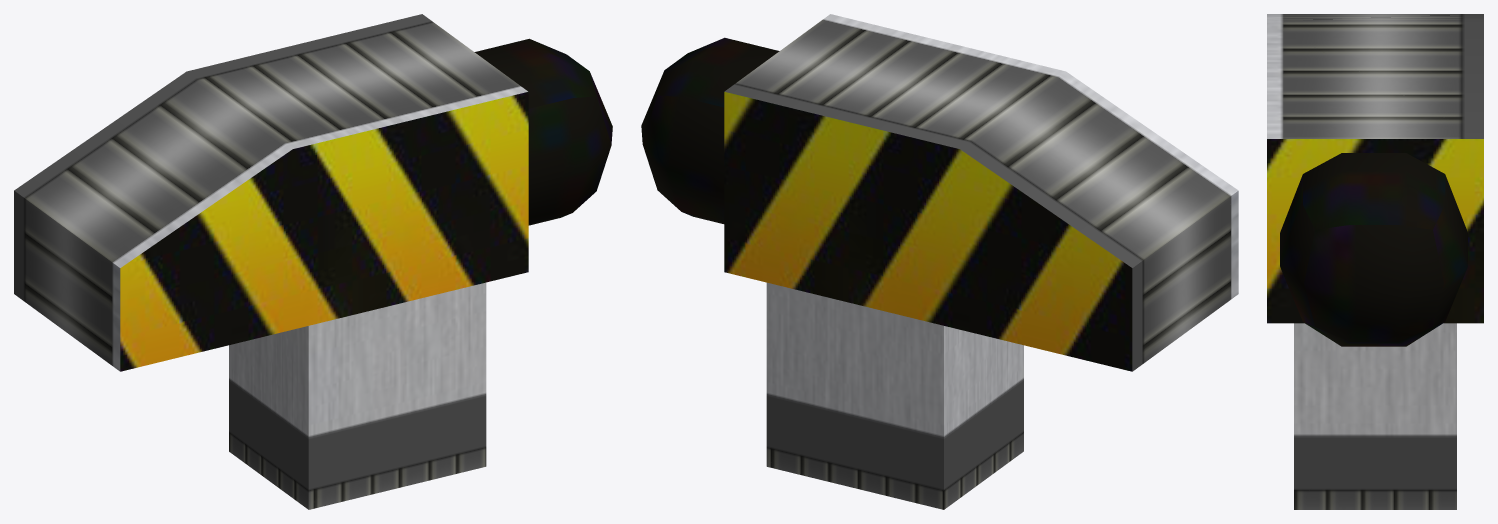
Rendered from HammerLvl1.FBX.
3 views of the same model, side by side, from view 1: azimuth 30°, elevation 25°; view 2: azimuth 150°, elevation 25°; view 3: azimuth 270°, elevation 25° (orthographic). The views are drawn at different scales.
Visible parts, largest first — view 1: Hammer_Lvl1; view 2: Hammer_Lvl1; view 3: Hammer_Lvl1.
Part boxes in pixels (left/top/right/bottom): Hammer_Lvl1: left=14, top=14, right=612, bottom=509; Hammer_Lvl1: left=641, top=14, right=1238, bottom=509; Hammer_Lvl1: left=1267, top=14, right=1483, bottom=509.
Bounding box in the file's own units: 16.89 × 11.5 × 5.87.
